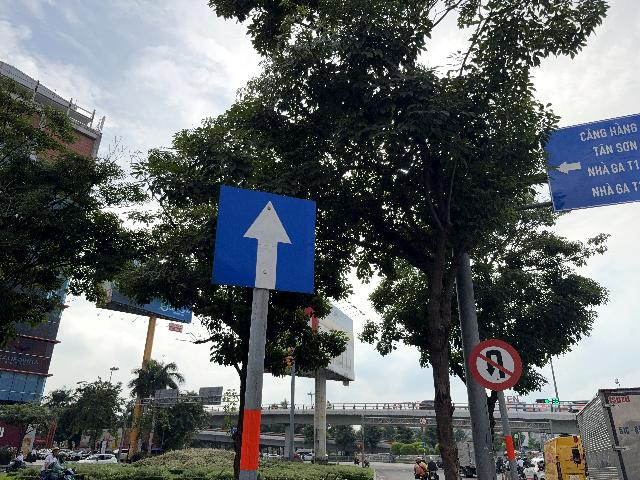cam-quay-dau-xe: (468, 339, 522, 391)
duong-mot-chieu: (211, 185, 316, 294)
